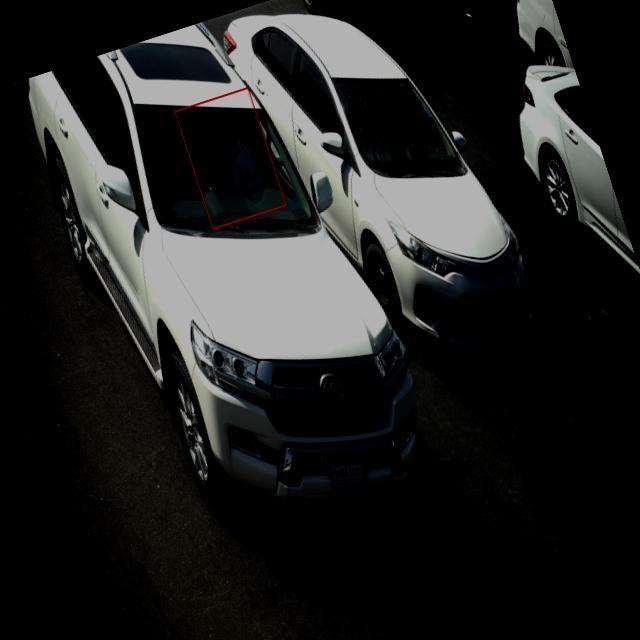windshield: (125, 99, 323, 244), (328, 74, 469, 180)
